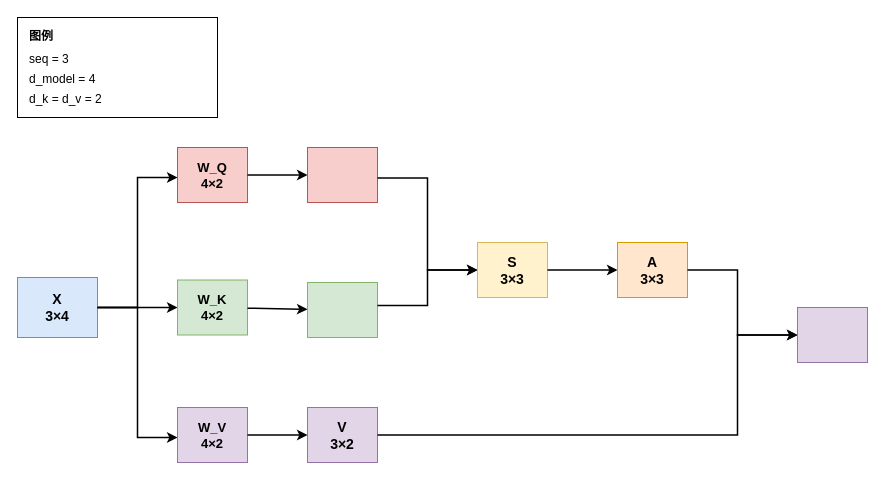
The diagram is 885 pixels wide and 480 high, and some of its shapes have lost their labels. The shapes that lost their labels are listed below. From the top down, each one's centre as x and y in pixels, then its label:
point (342, 174): Q 3×2
point (342, 310): K 3×2
point (832, 334): O 3×2
